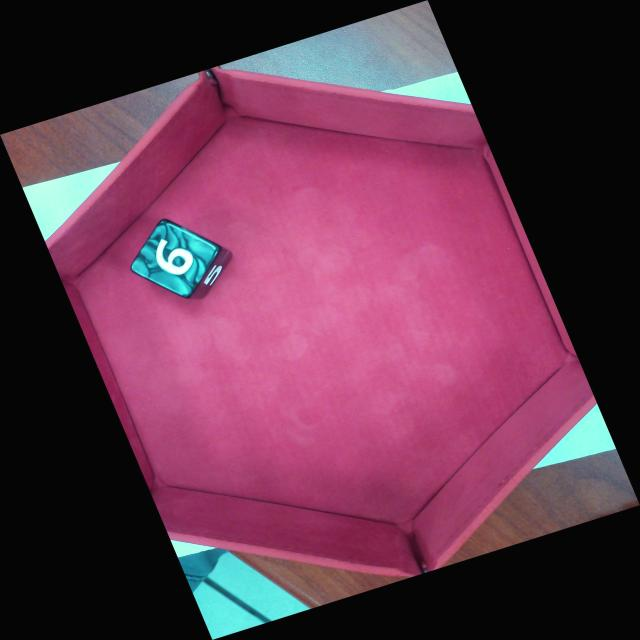dice: (130, 219, 222, 295)
